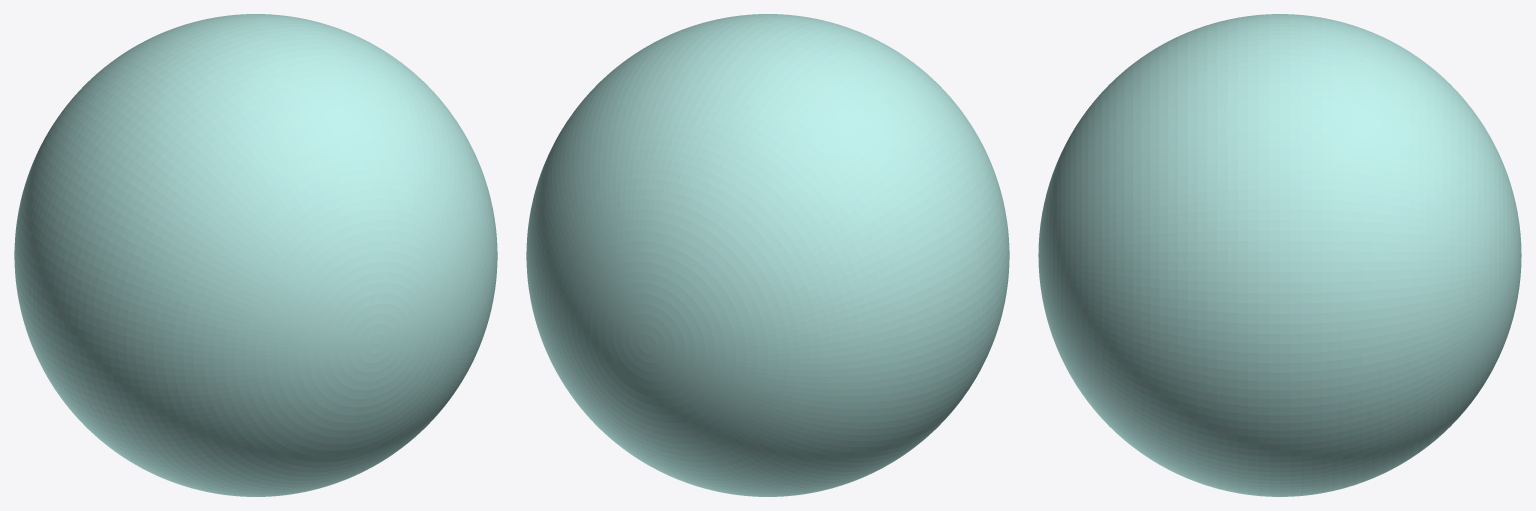
The model's file is EEZYbotARM_Mk2_robot_base_vis_23.dae.
3 views of the same model, side by side, from view 1: azimuth 30°, elevation 25°; view 2: azimuth 150°, elevation 25°; view 3: azimuth 270°, elevation 25° (orthographic).
Visible parts, largest first — view 1: node; view 2: node; view 3: node.
Part boxes in pixels (x1=…): node: x1=14, y1=14, x2=497, y2=496; node: x1=526, y1=14, x2=1009, y2=496; node: x1=1038, y1=14, x2=1521, y2=496.
Bounding box in the file's own units: 0.006 × 0.006 × 0.006.
